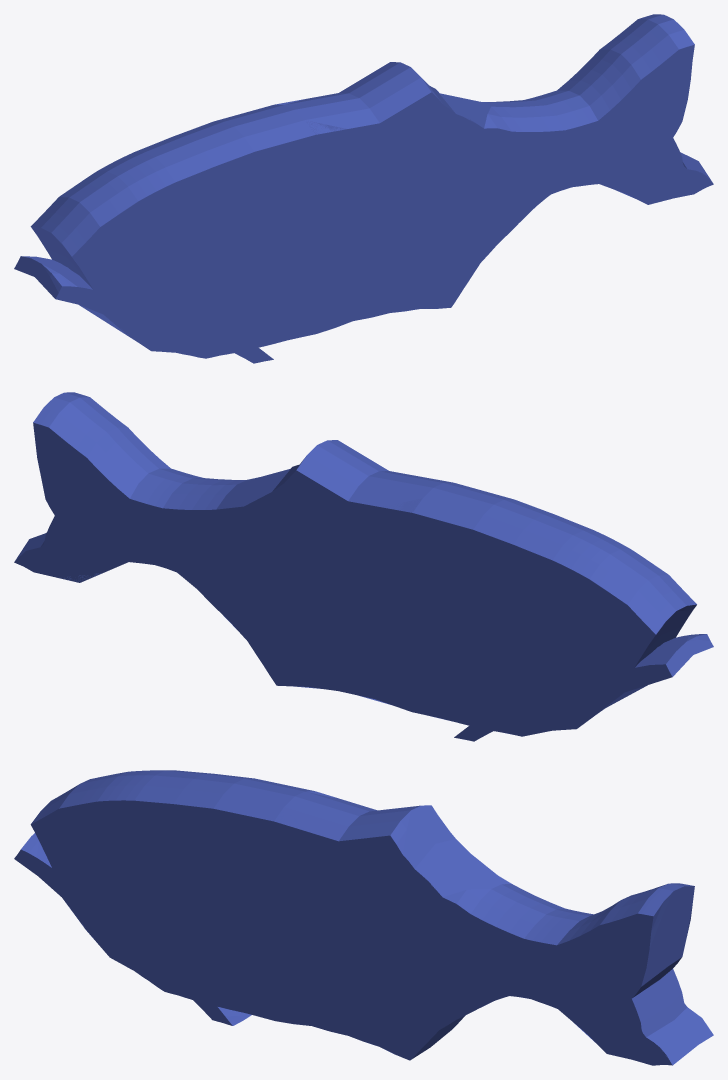
The model's file is Fish.glb.
The picture shows the model from 3 angles, top to bottom: view 1: azimuth 30°, elevation 25°; view 2: azimuth 150°, elevation 25°; view 3: azimuth 330°, elevation 25°; orthographic projection.
Parts seen in each view (by area): view 1: Plane; view 2: Plane; view 3: Plane.
Boxes of the visible parts, x1,y1,x2,y2 form: Plane: [14, 14, 713, 363]; Plane: [14, 392, 713, 741]; Plane: [14, 770, 713, 1065].
Size of the model in its own units: 4.99 by 1.74 by 0.5384.
